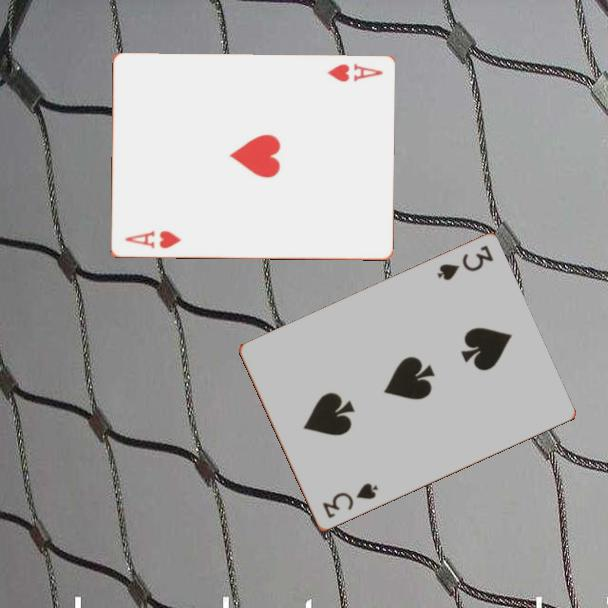h01: (121, 227, 184, 252), (323, 60, 385, 85)
s03: (433, 242, 496, 284), (319, 480, 381, 522)
